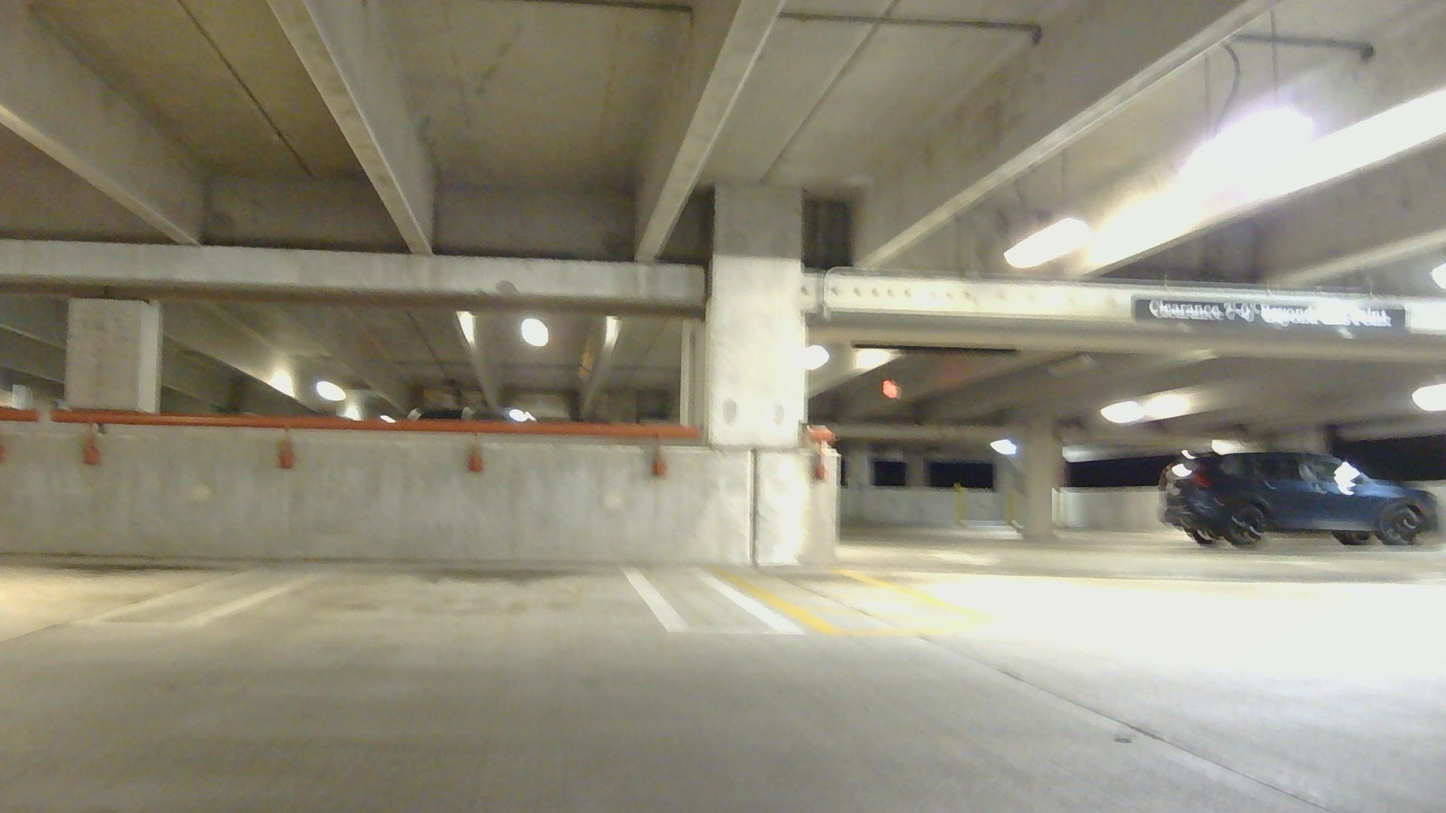empty_spot: (190, 497, 684, 631), (3, 466, 270, 631)
